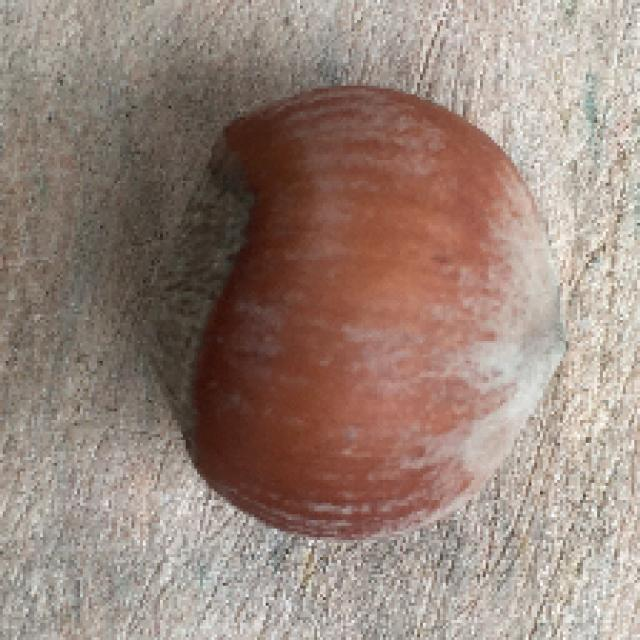qualityHazelnut: (139, 80, 571, 543)
